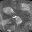people: (0, 16, 12, 29), (3, 7, 15, 16), (13, 16, 22, 26)
